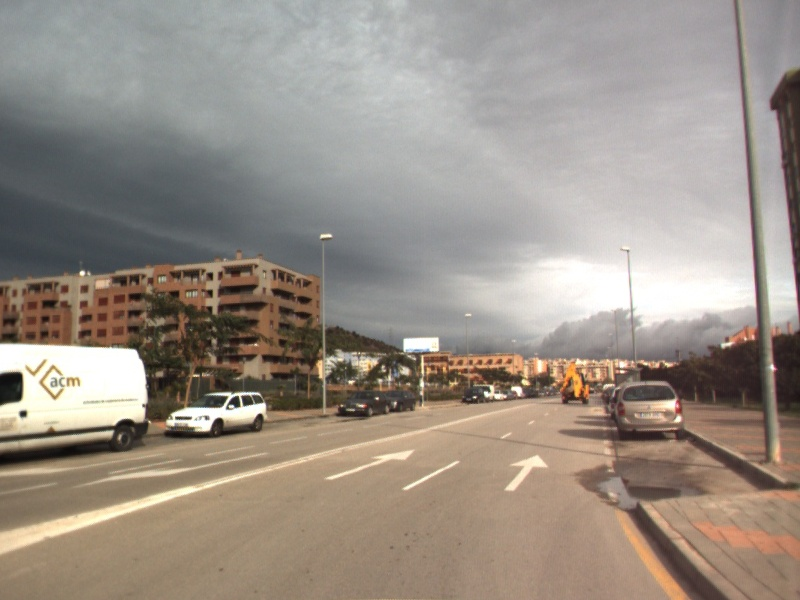STRAIGHT: (323, 448, 417, 482), (502, 452, 550, 493)
